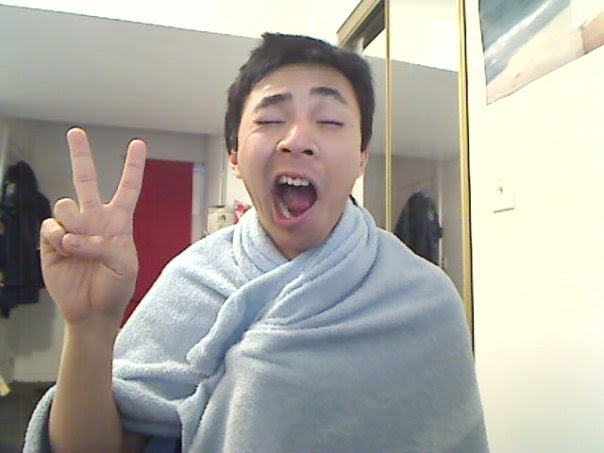v_s: (37, 122, 145, 321)
